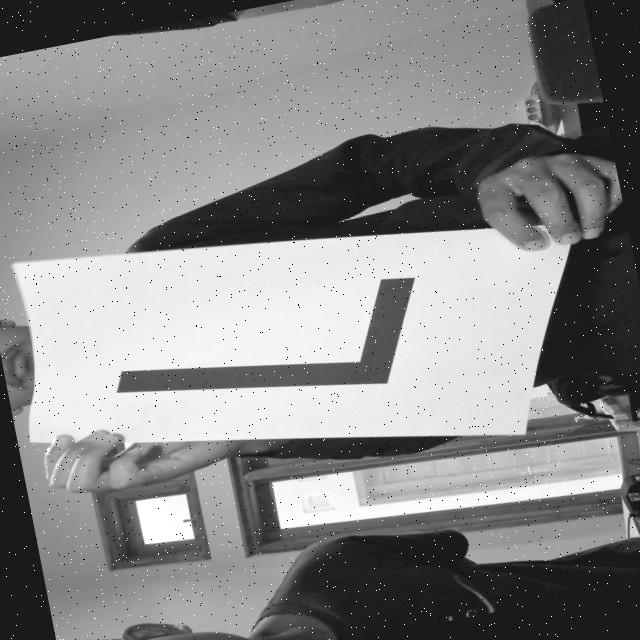l: (77, 244, 479, 448)
